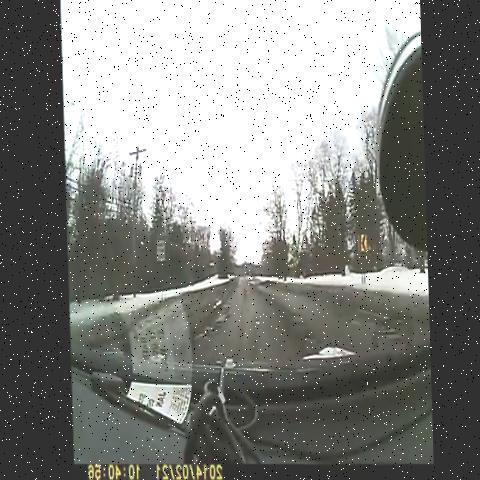pothole: (287, 332, 323, 360), (282, 310, 305, 328)
